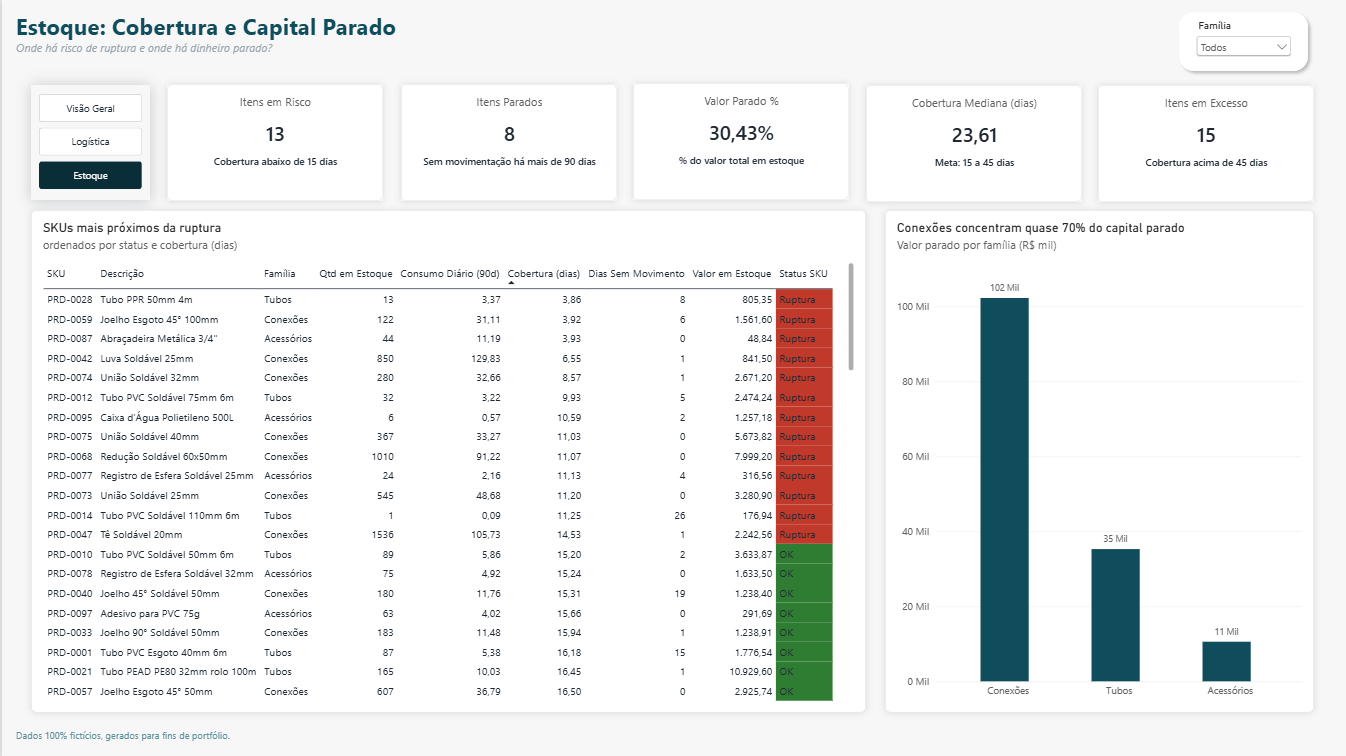

The page's visual inventory and layout, read from the dashboard file:
{"tool":"powerbi","page":{"name":"Estoque","canvas":[1920,1080],"ordinal":2},"visuals":[{"type":"shape","box":[41.2,121,170.2,164.9],"z":0},{"type":"shape","box":[1673.3,8.5,201.7,101.7],"z":1000},{"type":"pageNavigator","box":[53,134.1,147.4,138.5],"z":2000},{"type":"textbox","box":[20.6,14.2,659.5,68],"z":3000},{"type":"slicer","fields":{"Values":["dProdutos.familia"]},"box":[1701.7,28.5,145,61.7],"z":4000},{"type":"cardVisual","title":"asd","fields":{"Data":["_Medidas.Itens Parados"]},"box":[570.6,120.3,308,167],"z":5000},{"type":"cardVisual","fields":{"Data":["_Medidas.Cobertura Mediana (dias)"]},"box":[1234.8,120.8,308,167],"z":6000},{"type":"cardVisual","fields":{"Data":["_Medidas.Itens em Excesso"]},"box":[1566.4,120.8,308,167],"z":7000},{"type":"cardVisual","title":"Pedidos","fields":{"Data":["_Medidas.Valor Parado %"]},"box":[901.5,118.4,308,167],"z":8000},{"type":"cardVisual","fields":{"Data":["_Medidas.Itens em Risco"]},"box":[235.4,120.3,308,167],"z":9000},{"type":"tableEx","title":"SKUs mais próximos da ruptura","fields":{"Values":["dProdutos.sku","dProdutos.descricao","dProdutos.familia","_Medidas.Qtd em Estoque","_Medidas.Consumo Diário (90d)","_Medidas.Cobertura (dias)","_Medidas.Dias Sem Movimento","_Medidas.Valor em Estoque","_Medidas.Status SKU"]},"box":[41.7,300,1193.3,718.3],"z":10000},{"type":"columnChart","title":"Conexões concentram quase 70% do capital parado","fields":{"Category":["dProdutos.familia"],"Y":["_Medidas.Valor Parado"]},"box":[1261.7,300,613.3,718.3],"z":11000}]}

Visuals, with their boxes in screenshot pixels (x1, y1, x2, y2), scaled from the page's 1920x1080 canvas onto the 1346x756 screenshot:
shape: 29 85 148 200
shape: 1173 6 1314 77
pageNavigator: 37 94 140 191
textbox: 14 10 477 58
slicer - dProdutos.familia: 1193 20 1295 63
"asd" cardVisual: 400 84 616 201
cardVisual - _Medidas.Cobertura Mediana (dias): 866 85 1082 201
cardVisual - _Medidas.Itens em Excesso: 1098 85 1314 201
"Pedidos" cardVisual: 632 83 848 200
cardVisual - _Medidas.Itens em Risco: 165 84 381 201
"SKUs mais próximos da ruptura" tableEx: 29 210 866 713
"Conexões concentram quase 70% do capital parado" columnChart: 885 210 1314 713
